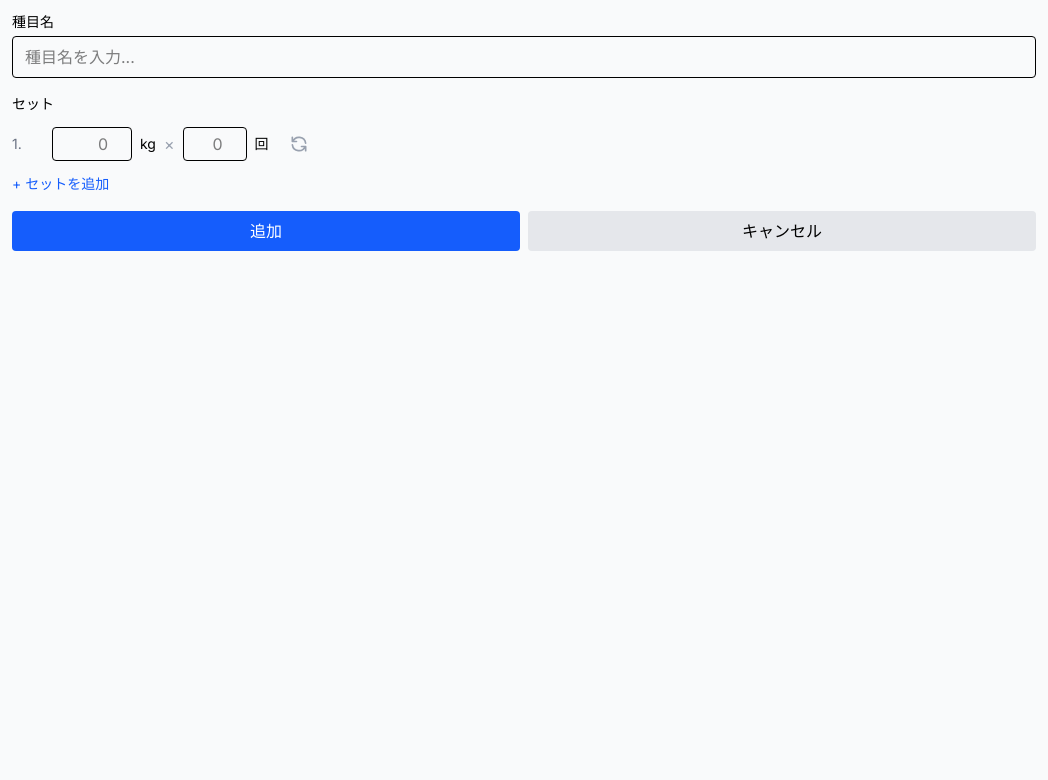
Test: ExerciseForm › バリデーション › 種目名が空の場合、アラートを表示する
Click the button "追加". click: (266, 231)
box: x1=12 y1=211 x2=520 y2=251
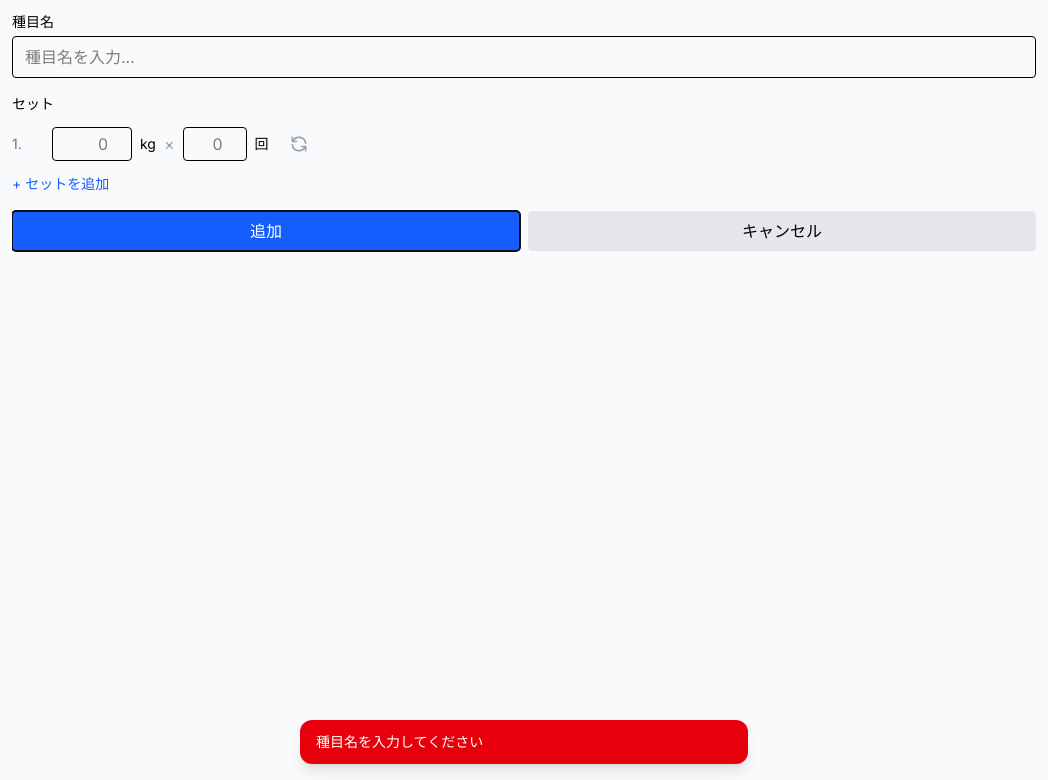
Now the text "種目名を入力してください" is shown, box x1=300 y1=720 x2=748 y2=764
